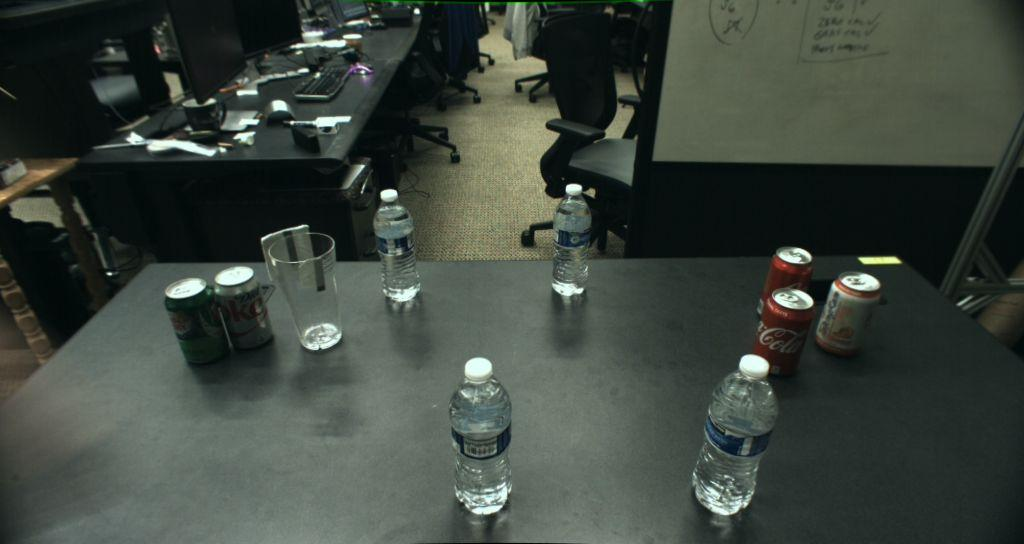can_coke: (754, 288, 814, 377)
can_diet_coke: (214, 264, 277, 354)
can_ginger_ale: (165, 278, 229, 365)
can_talking_rain_peach_nectarine: (814, 272, 880, 357)
water_bottle: (691, 354, 777, 515), (448, 357, 512, 515), (372, 189, 420, 302), (551, 183, 591, 296)
